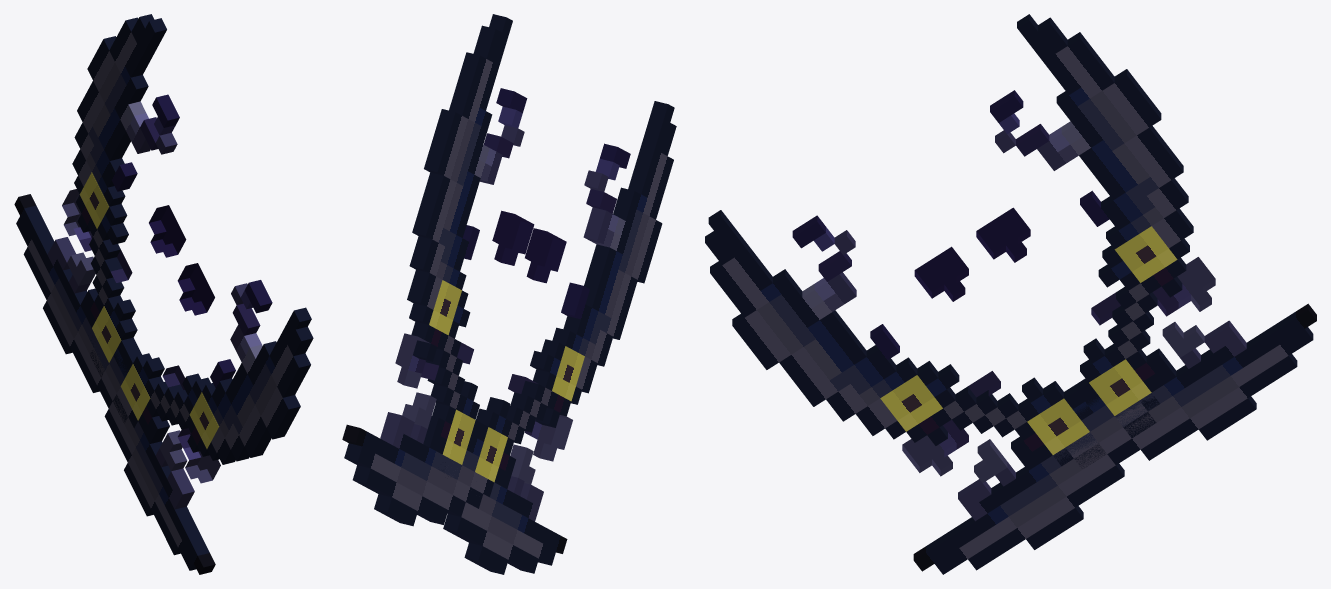
File: watching_warglaive.glb
The picture shows the model from 3 angles, left to right: view 1: azimuth 30°, elevation 25°; view 2: azimuth 150°, elevation 25°; view 3: azimuth 270°, elevation 25°; orthographic projection. The views are drawn at different scales.
Visible parts, largest first — view 1: off__Tool_L, main__Tool_R; view 2: main__Tool_R, off__Tool_L; view 3: main__Tool_R, off__Tool_L.
Part boxes in pixels (x1,y1,x2,y2): off__Tool_L: (72, 14, 220, 574); main__Tool_R: (14, 189, 313, 464); main__Tool_R: (342, 101, 676, 526); off__Tool_L: (407, 14, 572, 574); main__Tool_R: (705, 210, 1316, 468); off__Tool_L: (902, 14, 1193, 574).
Size of the model in its own units: 0.0542 by 2.16 by 2.16.
1 material, 1 textured.
